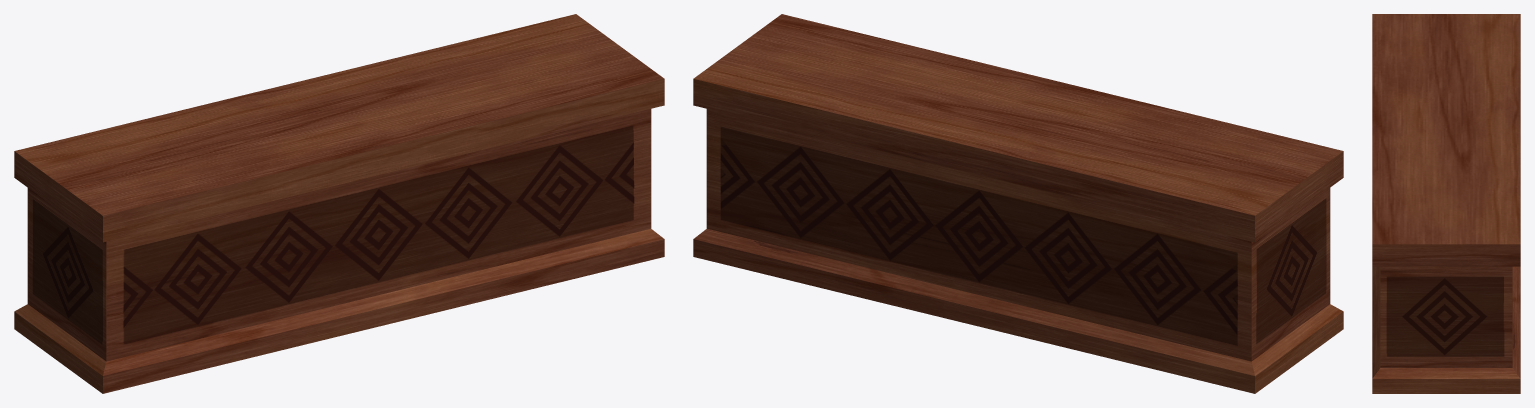
The model's file is table_display.glb.
3 views of the same model, side by side, from view 1: azimuth 30°, elevation 25°; view 2: azimuth 150°, elevation 25°; view 3: azimuth 270°, elevation 25° (orthographic). The views are drawn at different scales.
Visible parts, largest first — view 1: Cube_329_; view 2: Cube_329_; view 3: Cube_329_.
Boxes of the visible parts, bbox=[...] form: Cube_329_: bbox=[14, 14, 664, 393]; Cube_329_: bbox=[693, 14, 1343, 393]; Cube_329_: bbox=[1372, 14, 1520, 393].
Bounding box in the file's own units: 4.13 × 1.25 × 1.13.
1 material, 1 textured.
